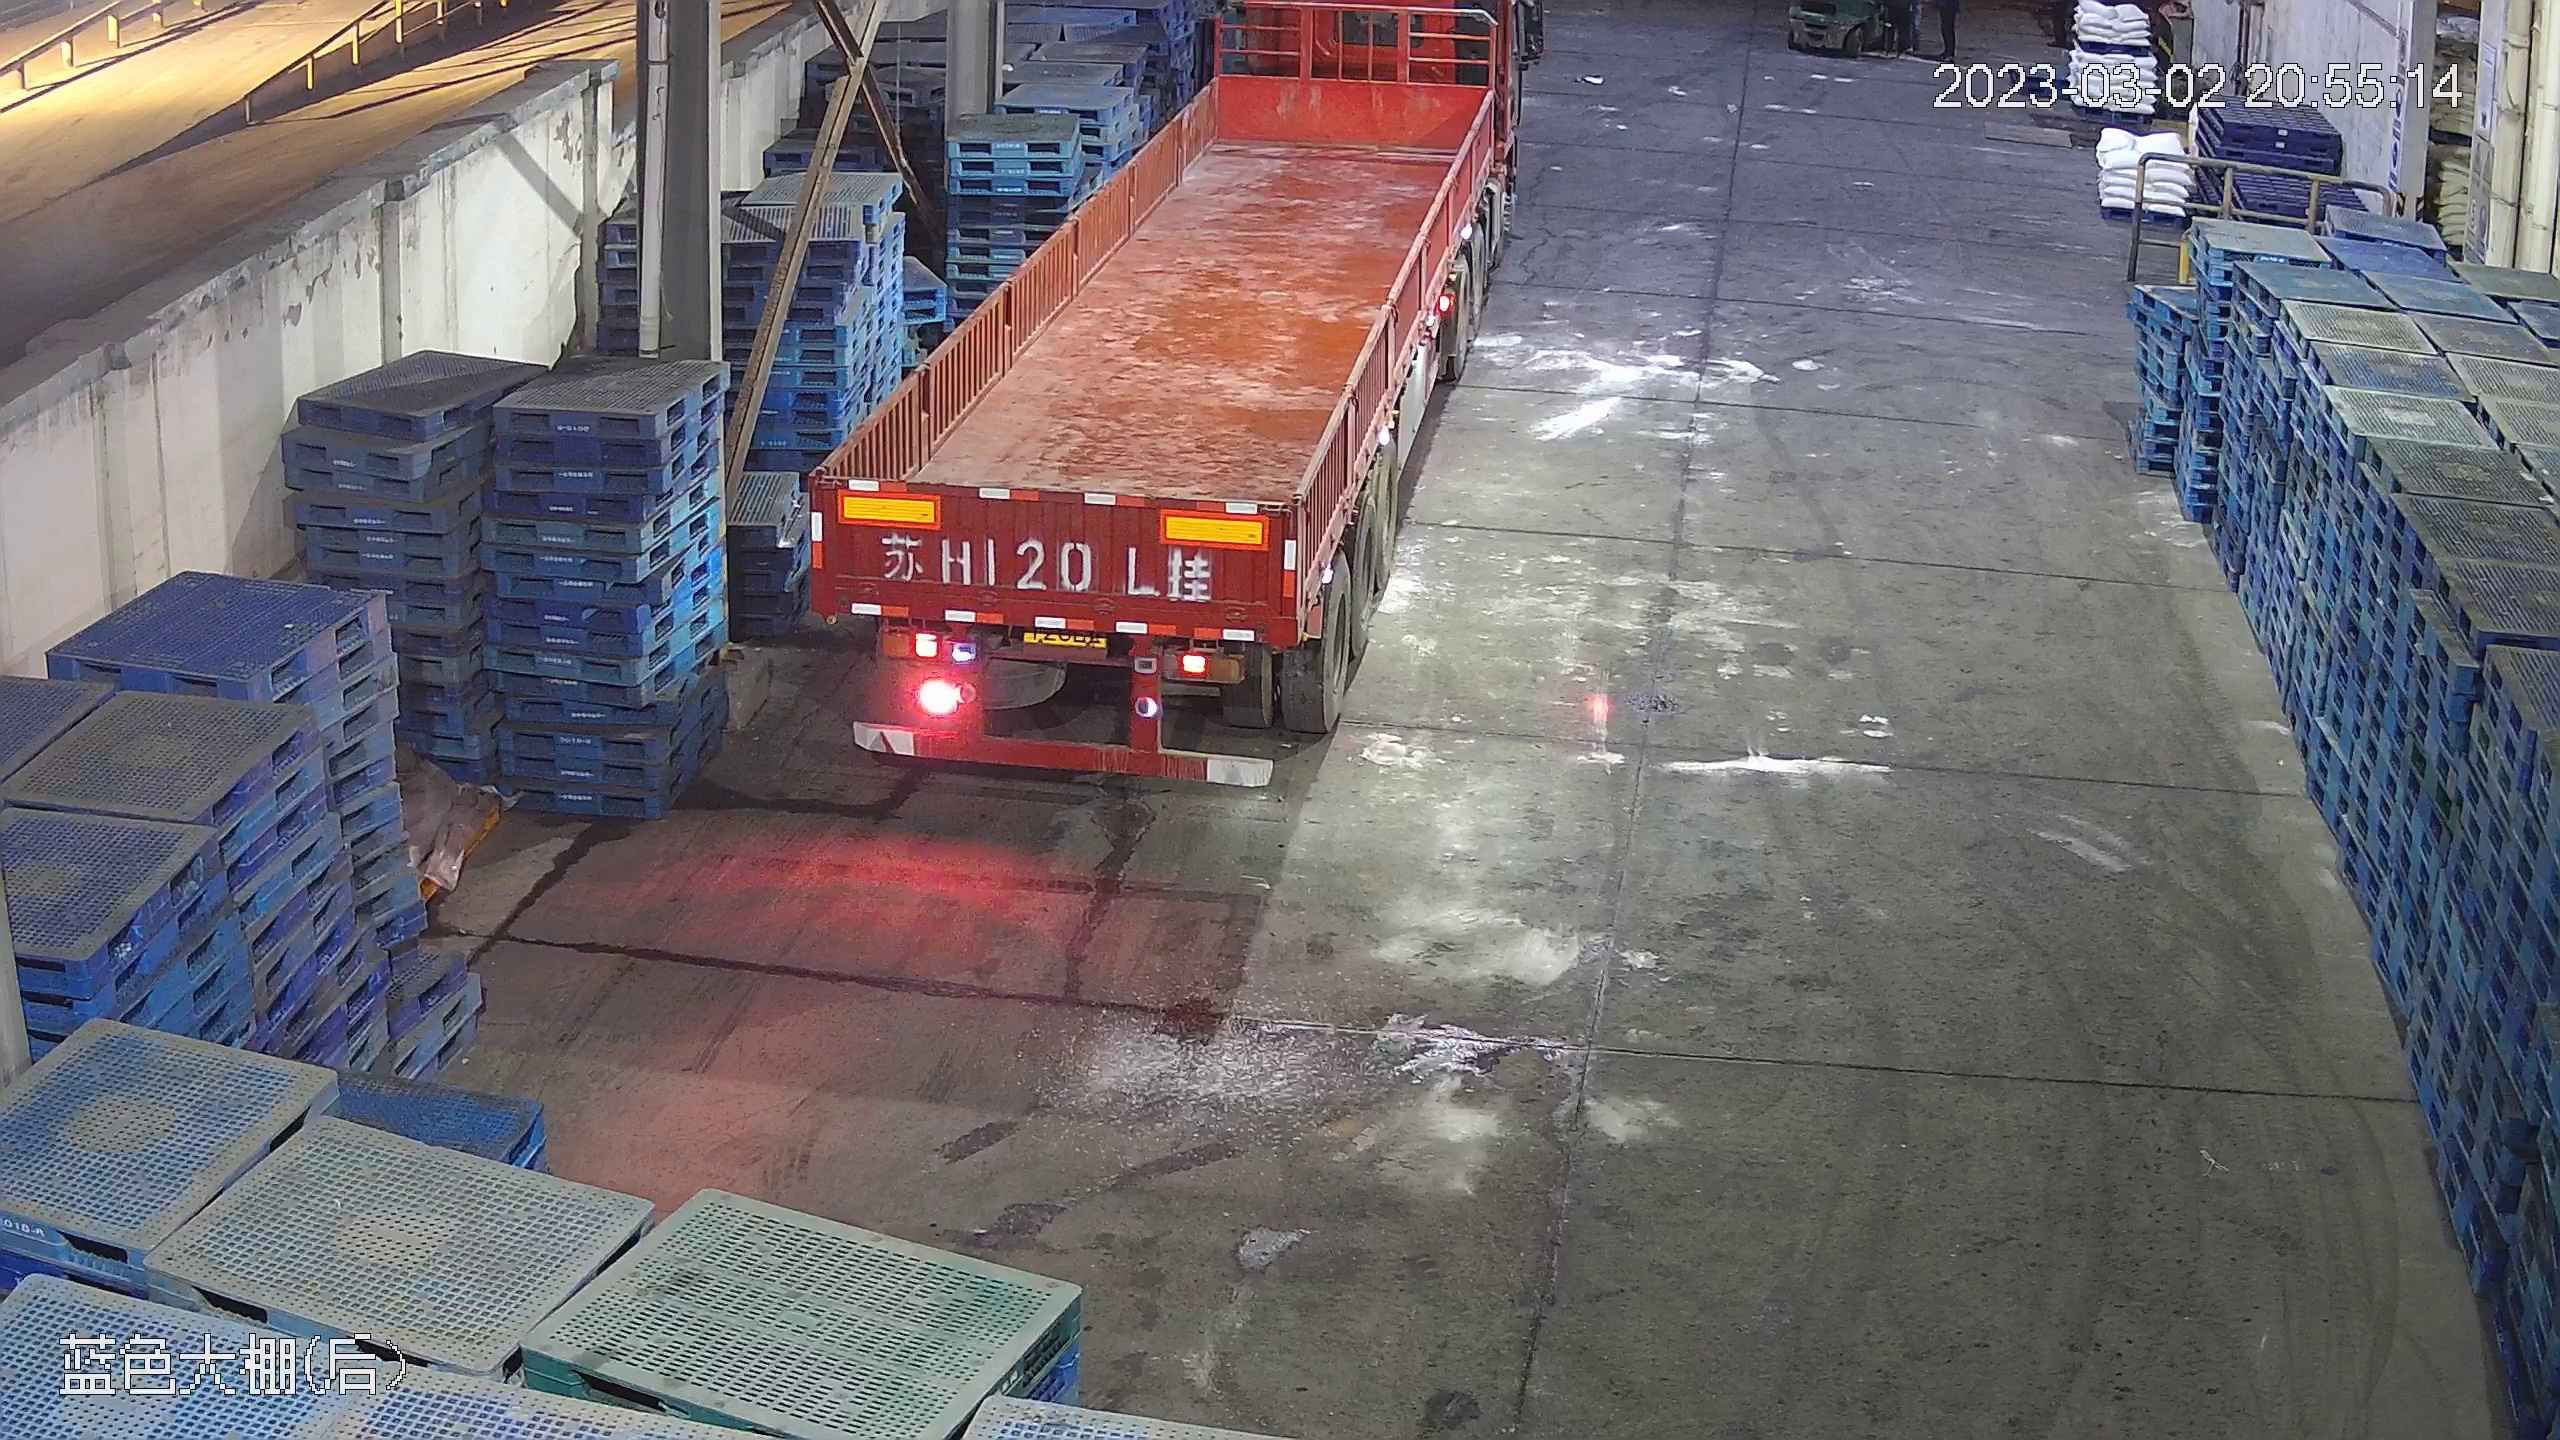truck: (798, 4, 1531, 784)
